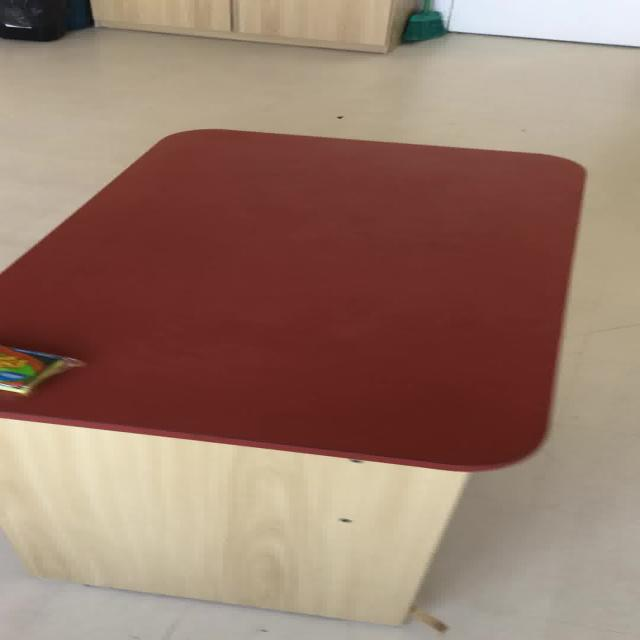sponge: (0, 126, 585, 626), (0, 344, 86, 396), (399, 0, 446, 42)
